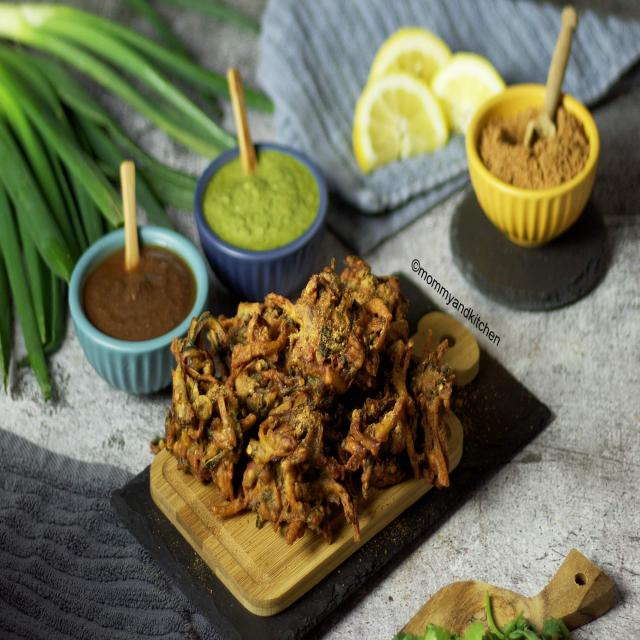BAJI: (157, 257, 457, 538)
